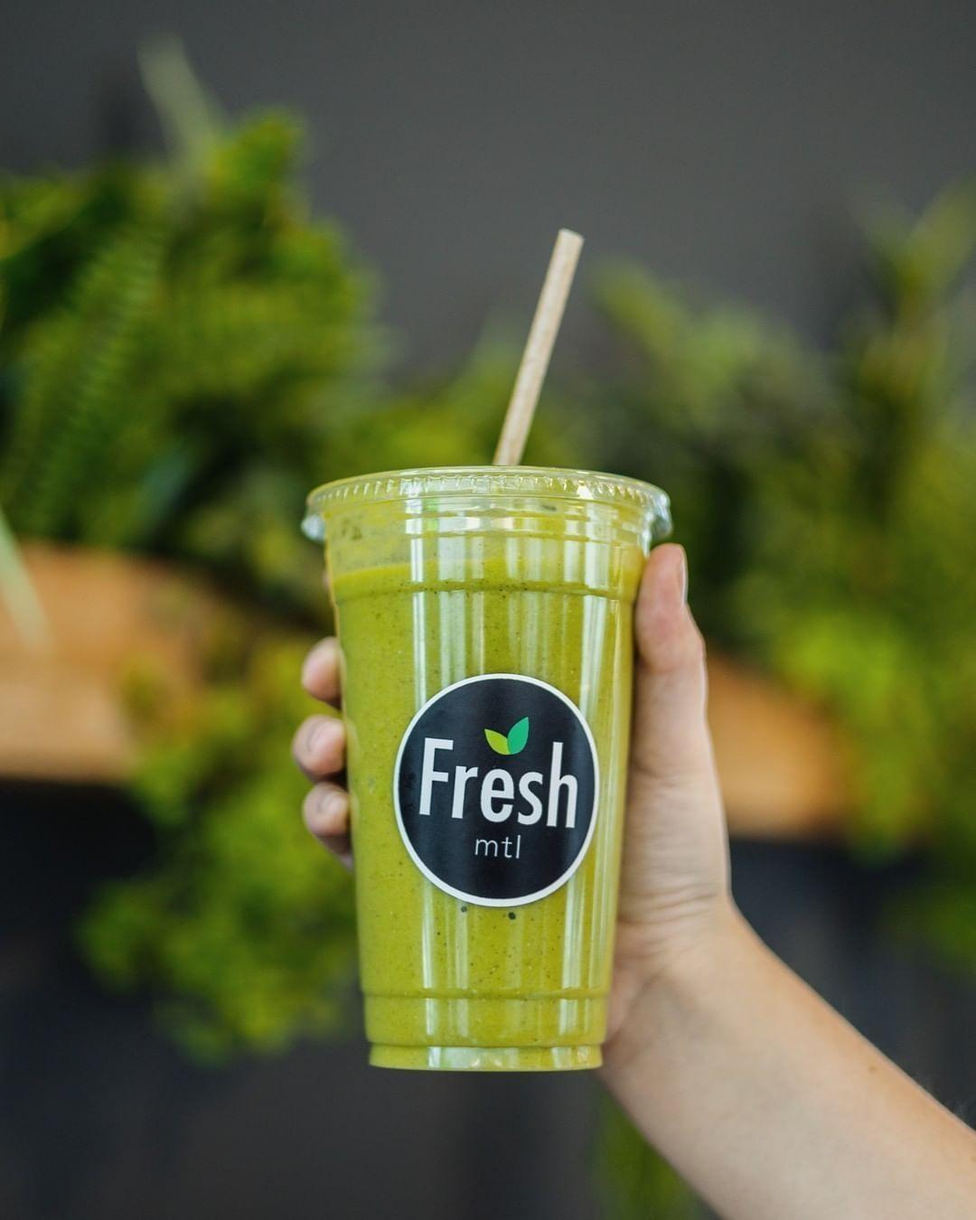cup-disposable: (303, 453, 680, 1084)
